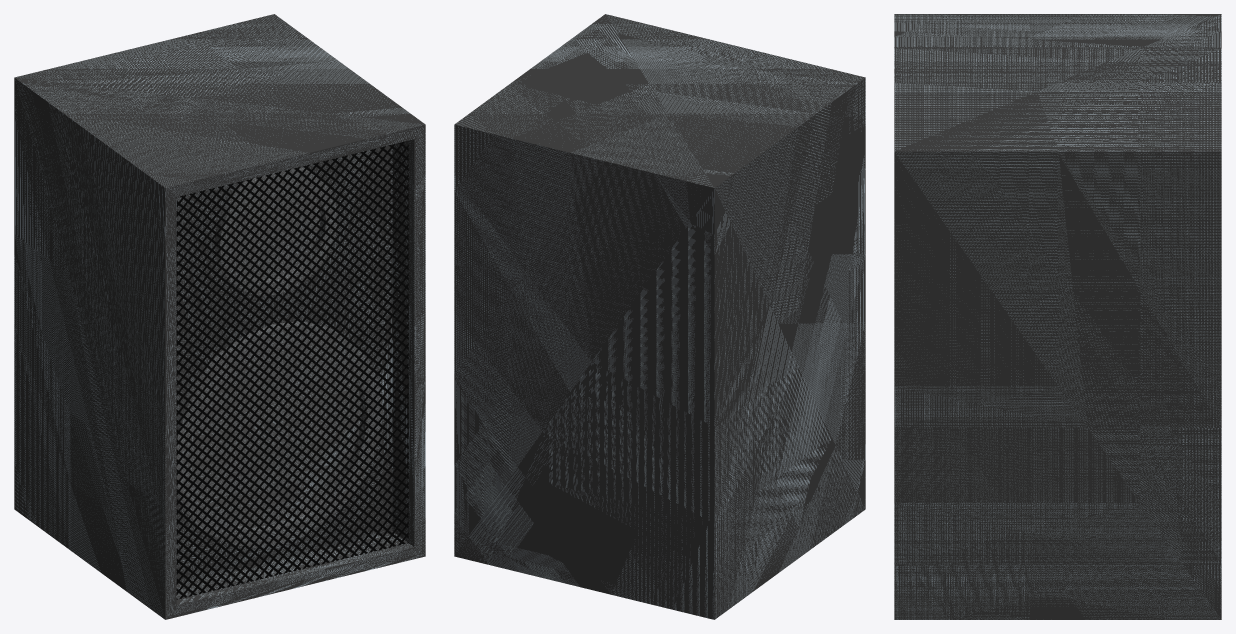
The model's file is speaker.dae.
The picture shows the model from 3 angles, left to right: view 1: azimuth 30°, elevation 25°; view 2: azimuth 150°, elevation 25°; view 3: azimuth 270°, elevation 25°; orthographic projection. The views are drawn at different scales.
Visible parts, largest first — view 1: SPEAKER (×7); view 2: SPEAKER; view 3: SPEAKER.
Boxes of the visible parts, x1=… form: SPEAKER (×7): x1=14, y1=14, x2=425, y2=619; SPEAKER: x1=454, y1=14, x2=865, y2=619; SPEAKER: x1=894, y1=14, x2=1221, y2=619.
Size of the model in its own units: 45.69 by 45.94 by 72.44.
4 materials, 1 textured.
